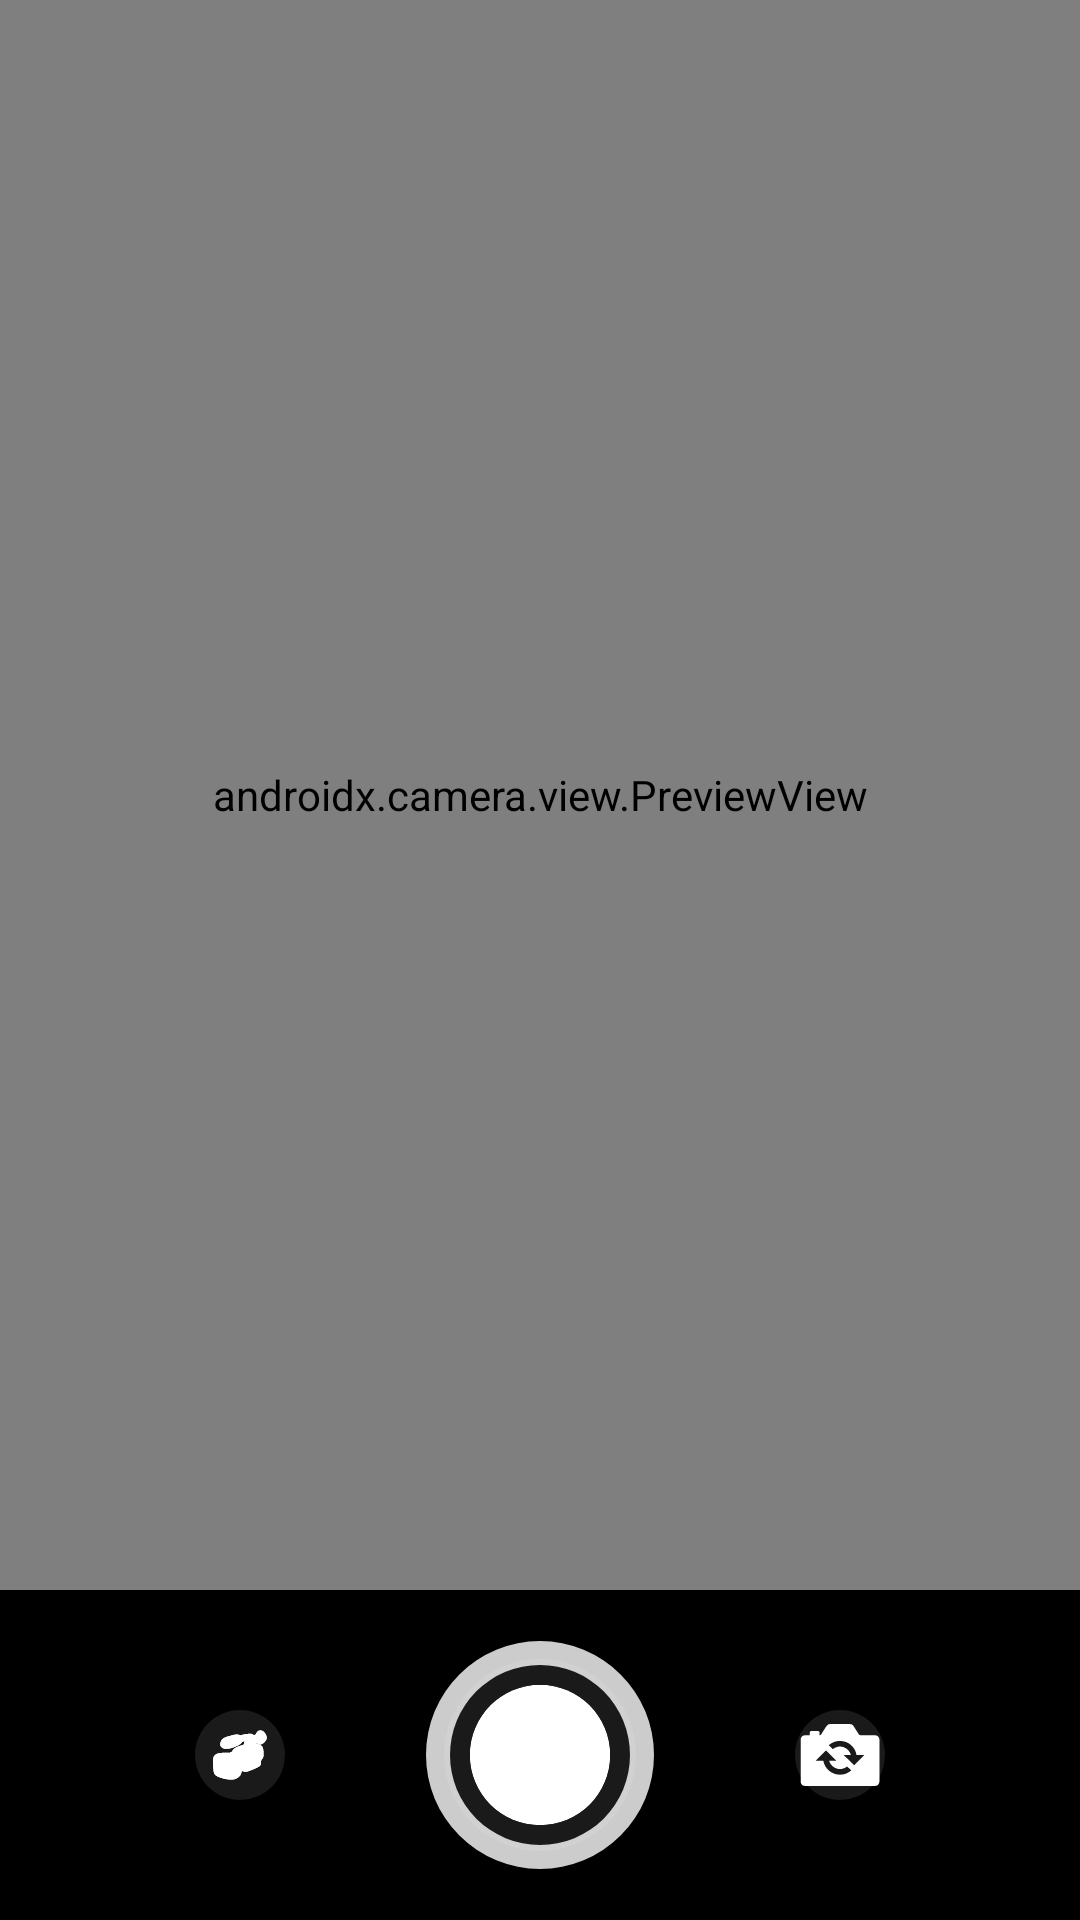

Where to tap for icons on this 1080×1920 app screen, as [x,y]:
inversa: [840,1755]
photo: [540,1755]
